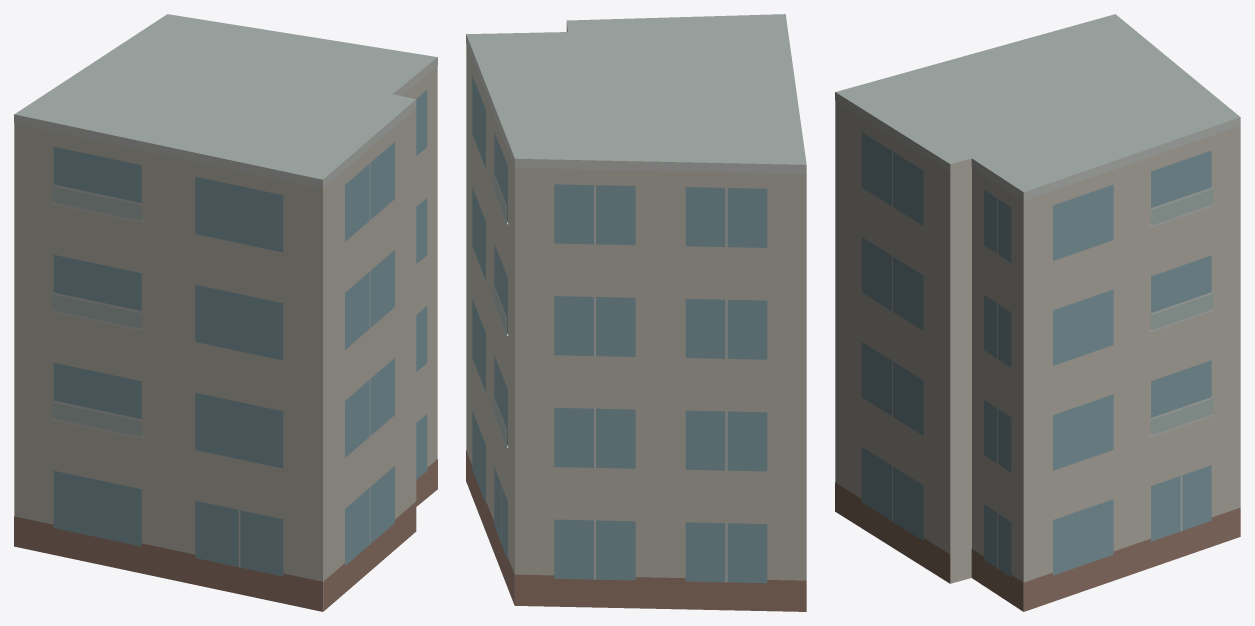
Rendered from survey-upis-32462491.glb.
3 renders of one model, left to right at view 1: azimuth 30°, elevation 25°; view 2: azimuth 150°, elevation 25°; view 3: azimuth 270°, elevation 25°, orthographic. The views are drawn at different scales.
Visible parts, largest first — view 1: survey-upis-32462491.tmp; view 2: survey-upis-32462491.tmp; view 3: survey-upis-32462491.tmp.
Boxes of the visible parts, x1=… form: survey-upis-32462491.tmp: x1=14, y1=14, x2=437, y2=611; survey-upis-32462491.tmp: x1=466, y1=14, x2=806, y2=611; survey-upis-32462491.tmp: x1=835, y1=14, x2=1240, y2=611.
Bounding box in the file's own units: 10.86 × 11.9 × 10.43.
